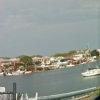Boat: (79, 65, 100, 82)
